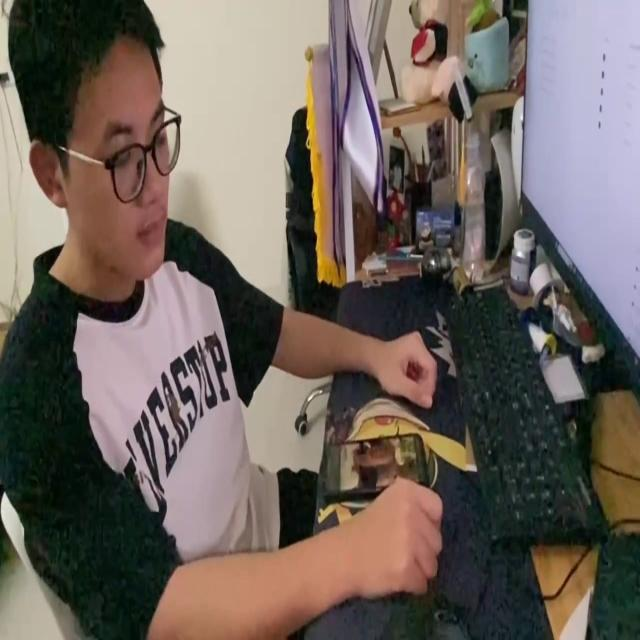laptop: (519, 0, 640, 399)
phone: (320, 432, 430, 492)
student: (2, 0, 446, 638)
